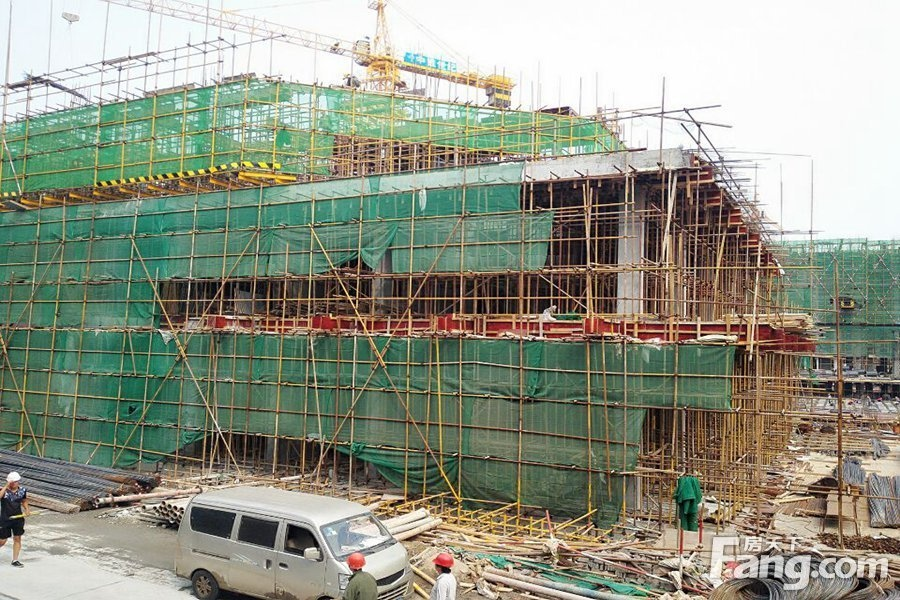red: (432, 550, 455, 575), (344, 553, 366, 575)
white: (4, 472, 20, 491)
